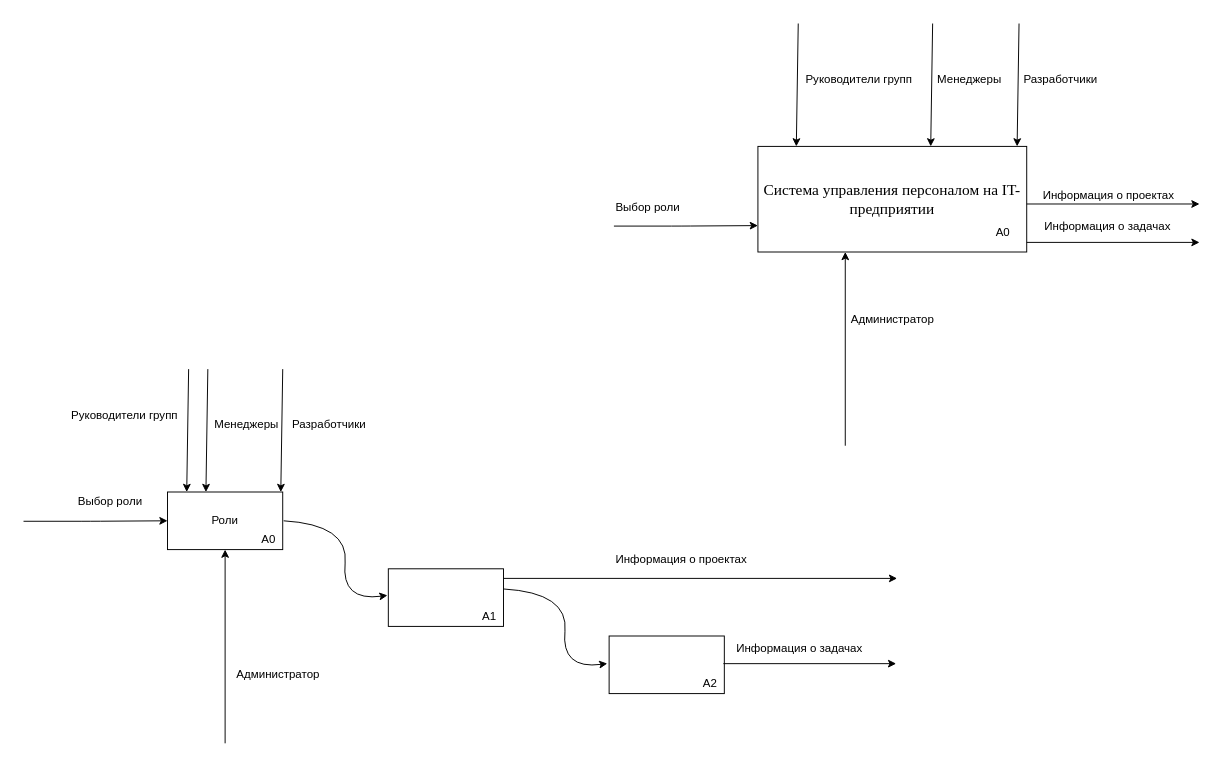
Image size: 1224x768. Some labels were removed from this diagram. The shapes that lost their labels are listed below. From the top down, each one's box as (x1, y1, x2, y2) in pixels, then its label:
(387, 568, 504, 626): Проекты
(608, 635, 724, 694): Задачи
